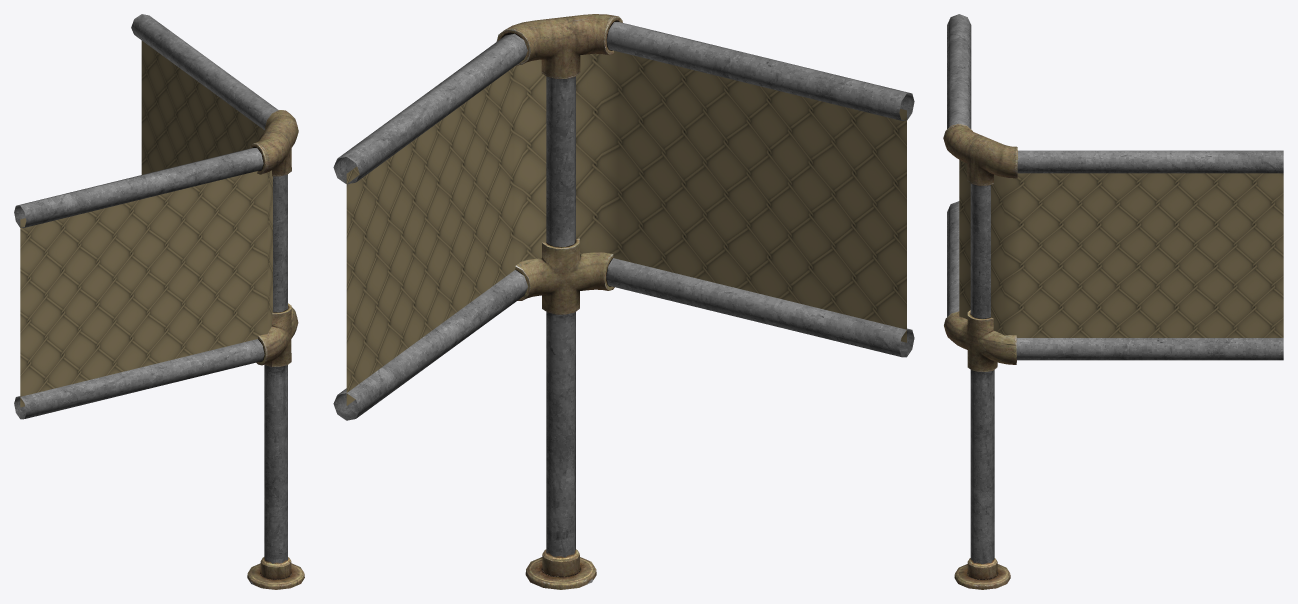
Rendered from railing_pplant_turn_chainlink.dae.
The picture shows the model from 3 angles, left to right: view 1: azimuth 30°, elevation 25°; view 2: azimuth 150°, elevation 25°; view 3: azimuth 270°, elevation 25°; orthographic projection. The views are drawn at different scales.
Visible parts, largest first — view 1: railing_pplant_turn_chainlink; view 2: railing_pplant_turn_chainlink; view 3: railing_pplant_turn_chainlink.
Part boxes in pixels (x1=…): railing_pplant_turn_chainlink: x1=14, y1=14, x2=304, y2=589; railing_pplant_turn_chainlink: x1=333, y1=14, x2=914, y2=589; railing_pplant_turn_chainlink: x1=943, y1=14, x2=1283, y2=589.
Bounding box in the file's own units: 1.05 × 1.49 × 1.05.
